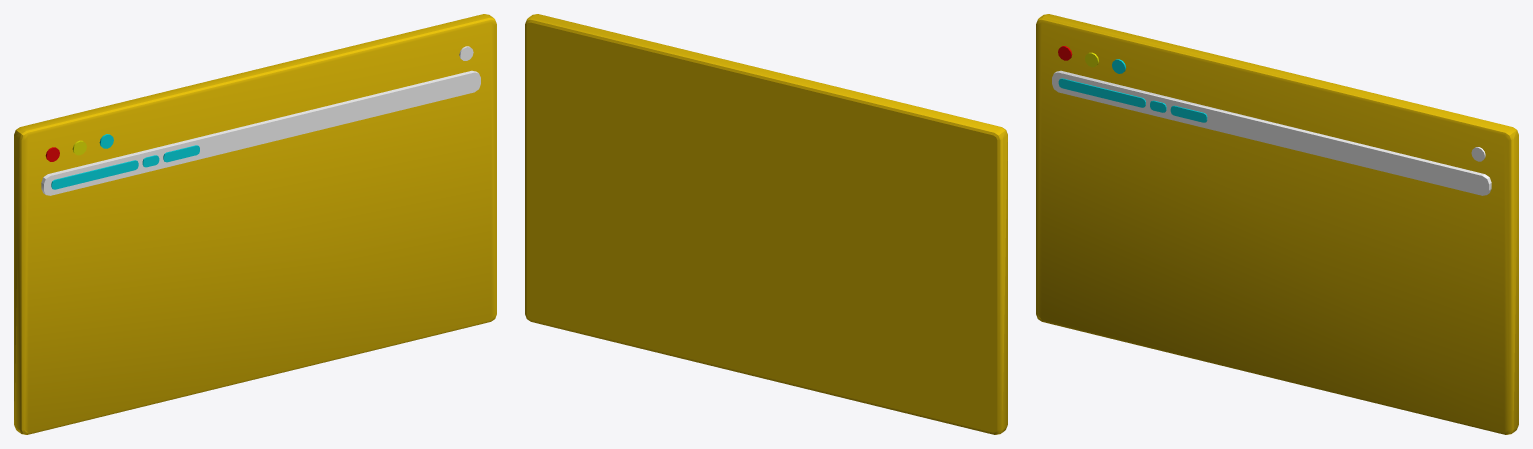
The model's file is screen.gltf.
3 views of the same model, side by side, from view 1: azimuth 30°, elevation 25°; view 2: azimuth 150°, elevation 25°; view 3: azimuth 330°, elevation 25° (orthographic).
Visible parts, largest first — view 1: Cube, Cube.1, Cube.5 0.1; view 2: Cube; view 3: Cube, Cube.1, Cube.5 0.1.
Part boxes in pixels (box(x1,y1,x2,y2)): Cube: box(14, 14, 496, 434); Cube.1: box(41, 70, 480, 195); Cube.5 0.1: box(51, 160, 138, 189); Cube: box(525, 14, 1007, 434); Cube: box(1036, 14, 1518, 434); Cube.1: box(1052, 70, 1491, 195); Cube.5 0.1: box(1058, 78, 1145, 107).
Bounding box in the file's own units: 3.28 × 2 × 0.1436.
